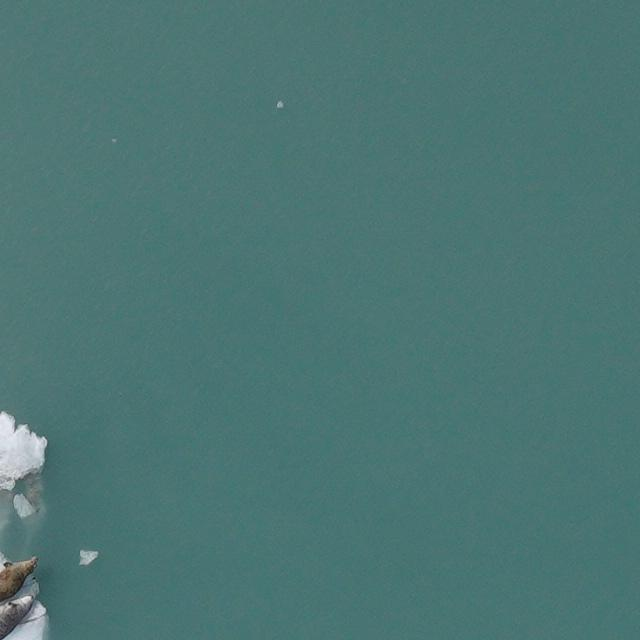seal: (0, 585, 39, 640), (0, 555, 44, 598)
